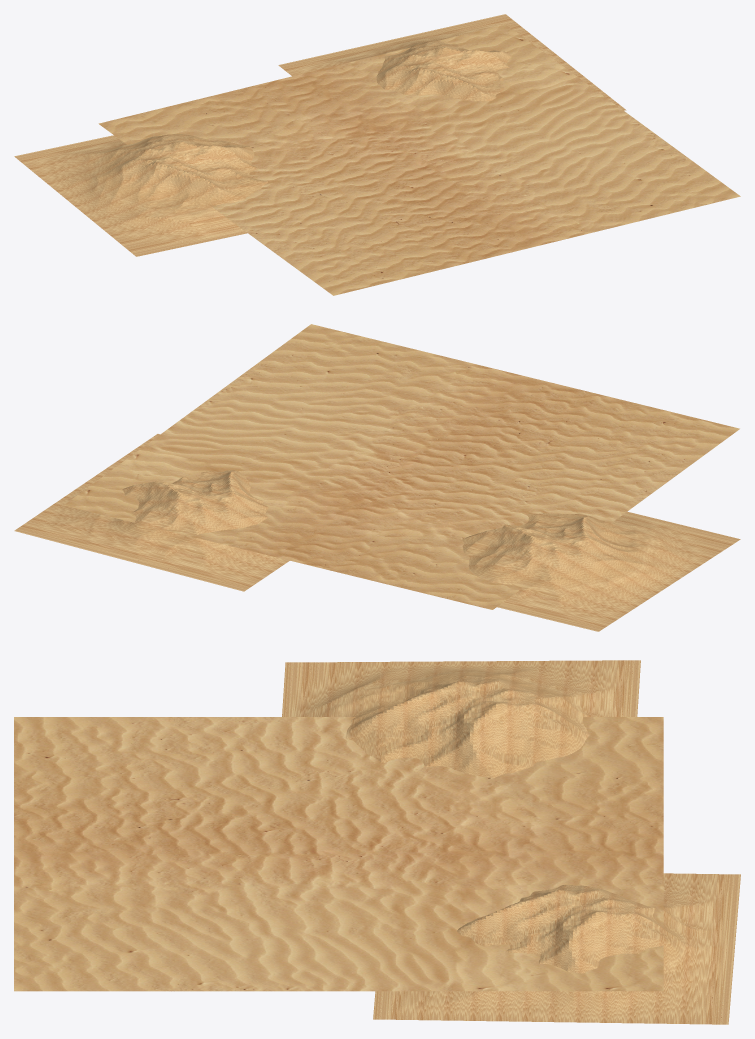
The model's file is terrains.fbx.
The picture shows the model from 3 angles, top to bottom: view 1: azimuth 30°, elevation 25°; view 2: azimuth 150°, elevation 25°; view 3: azimuth 270°, elevation 25°; orthographic projection. The views are drawn at different scales.
Visible parts, largest first — view 1: Объект_Плоскость, Объект_Ландшафт_1, Объект_Ландшафт; view 2: Объект_Плоскость, Объект_Ландшафт_1, Объект_Ландшафт; view 3: Объект_Плоскость, Объект_Ландшафт, Объект_Ландшафт_1.
Part boxes in pixels (x1,y1,x2,y2): Объект_Плоскость: (98,24,740,295); Объект_Ландшафт_1: (14,134,267,256); Объект_Ландшафт: (278,14,626,110); Объект_Плоскость: (64,324,739,609); Объект_Ландшафт_1: (462,511,740,631); Объект_Ландшафт: (14,434,289,591); Объект_Плоскость: (14,717,663,991); Объект_Ландшафт: (373,873,740,1024); Объект_Ландшафт_1: (282,660,640,777).
Bounding box in the file's own units: 7208 × 432 × 6205.
1 material, 1 textured.
